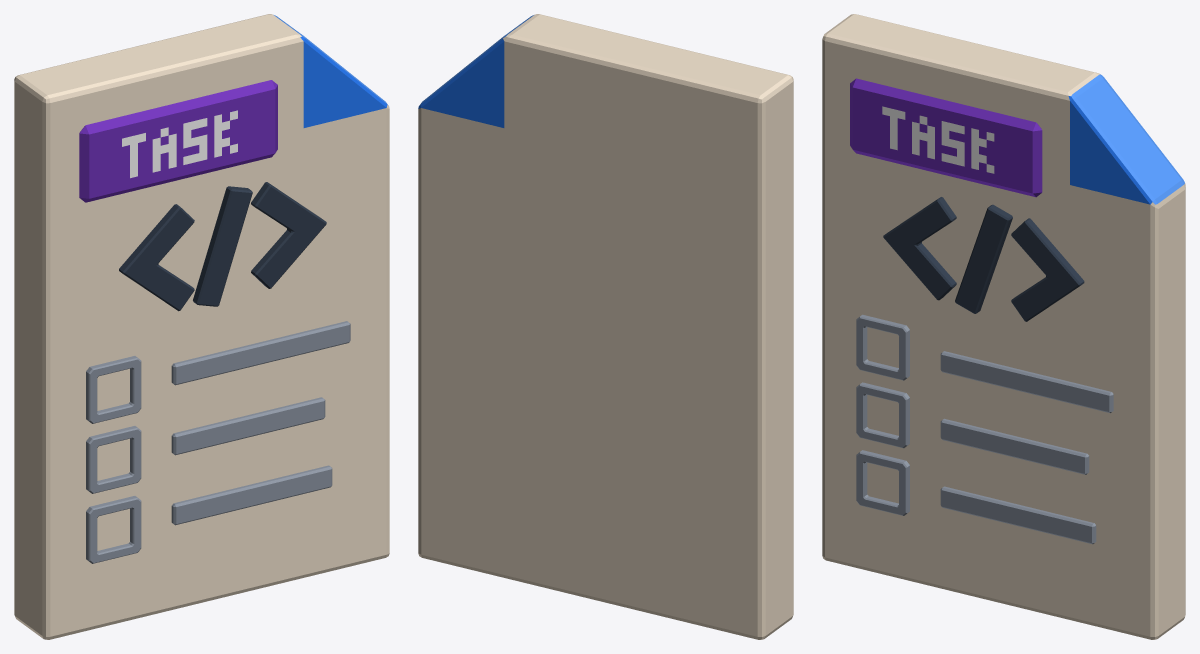
The model's file is work_coding_task_v01.glb.
The picture shows the model from 3 angles, left to right: view 1: azimuth 30°, elevation 25°; view 2: azimuth 150°, elevation 25°; view 3: azimuth 330°, elevation 25°; orthographic projection. The views are drawn at different scales.
Visible parts, largest first — view 1: coding_task; view 2: coding_task; view 3: coding_task.
Boxes of the visible parts, x1,y1,x2,y2 form: coding_task: [14, 14, 389, 639]; coding_task: [418, 14, 793, 639]; coding_task: [822, 14, 1185, 639].
Bounding box in the file's own units: 0.96 × 1.44 × 0.193.
Materials: 1 (1 with a texture image).
